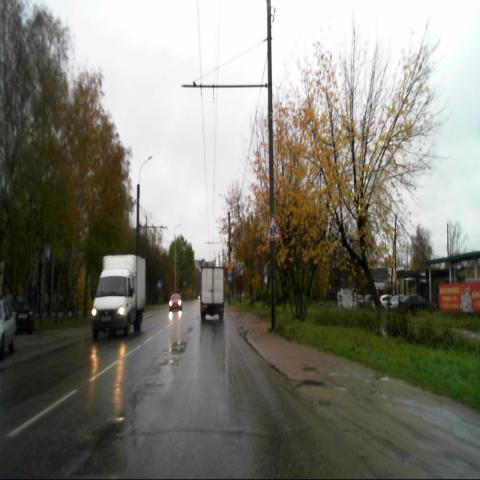1_23: (265, 213, 281, 242)
